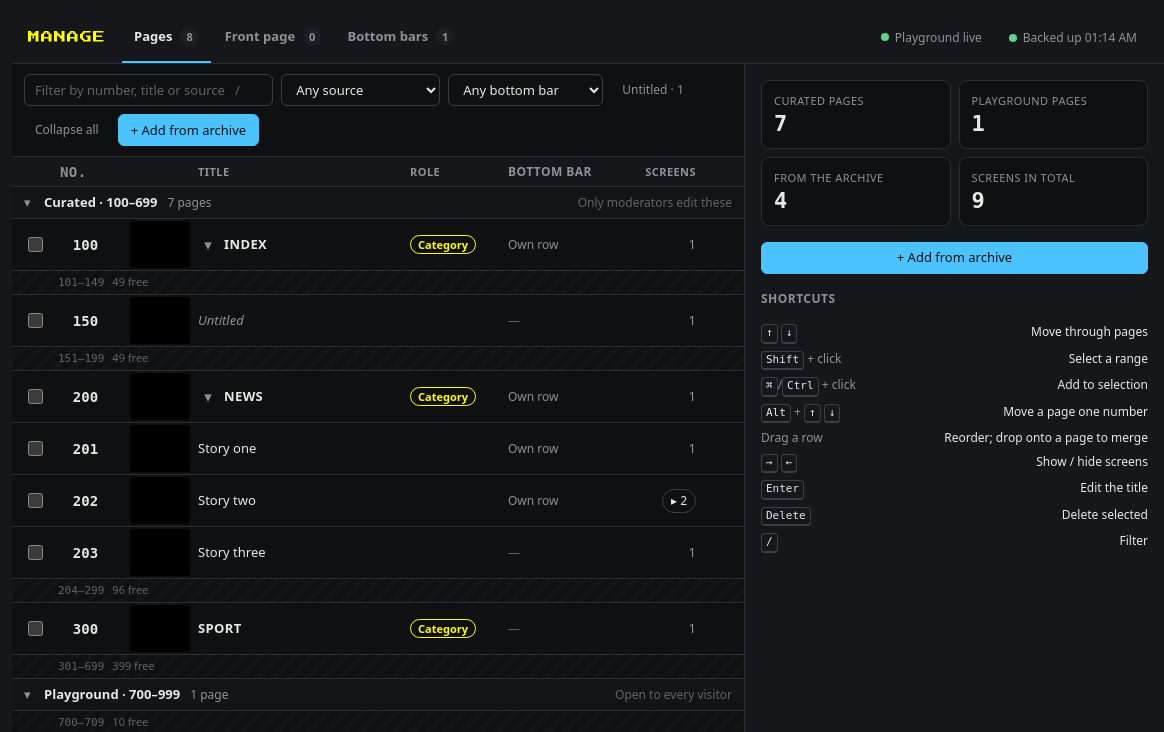
Test: the details pane › changes the bottom bar of every archive screen of the page
Click the row "202 Story two Own row ▸ 2" at (378, 501), box [12,475,744,527]
(page scrolled)
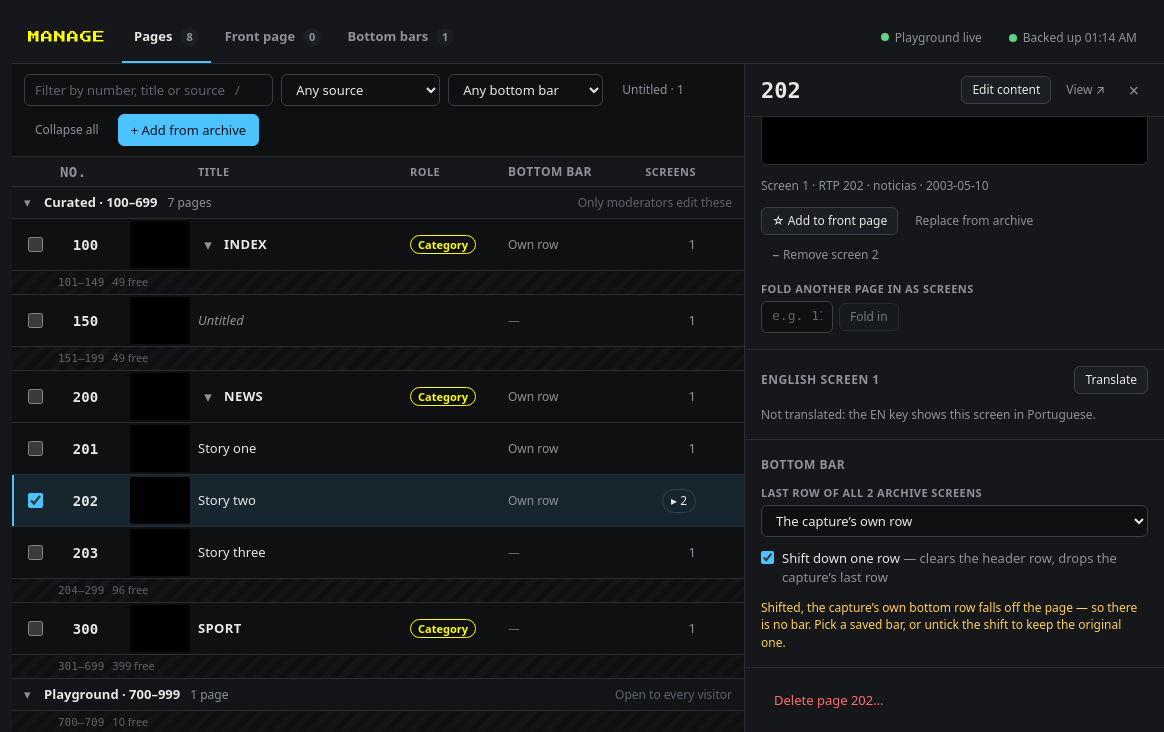
Select "Main navigation" in the dropdown labelled "Last row of all 2 archive screens" at (954, 521), box [761,505,1148,537]
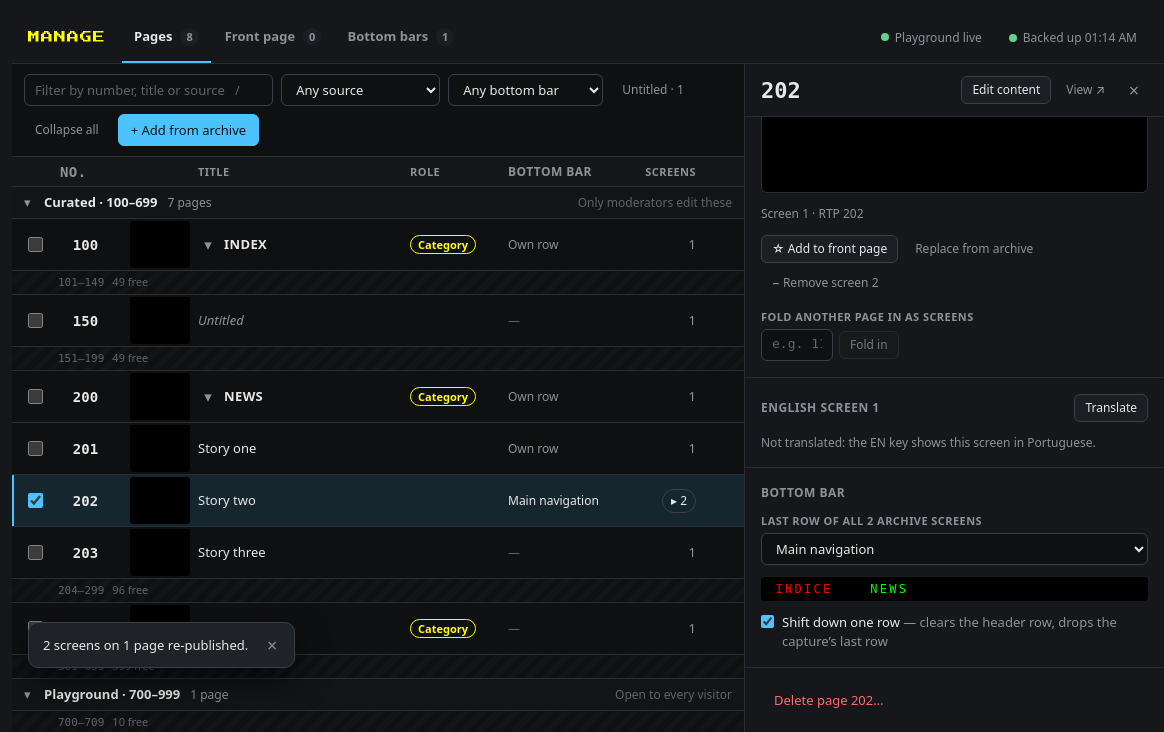
Result: the cell with class "mg-col-bar" reads "Main navigation" at [508,492,599,509]
Result: the text "2 screens on 1 page re-published." is shown at [43,636,248,654]
